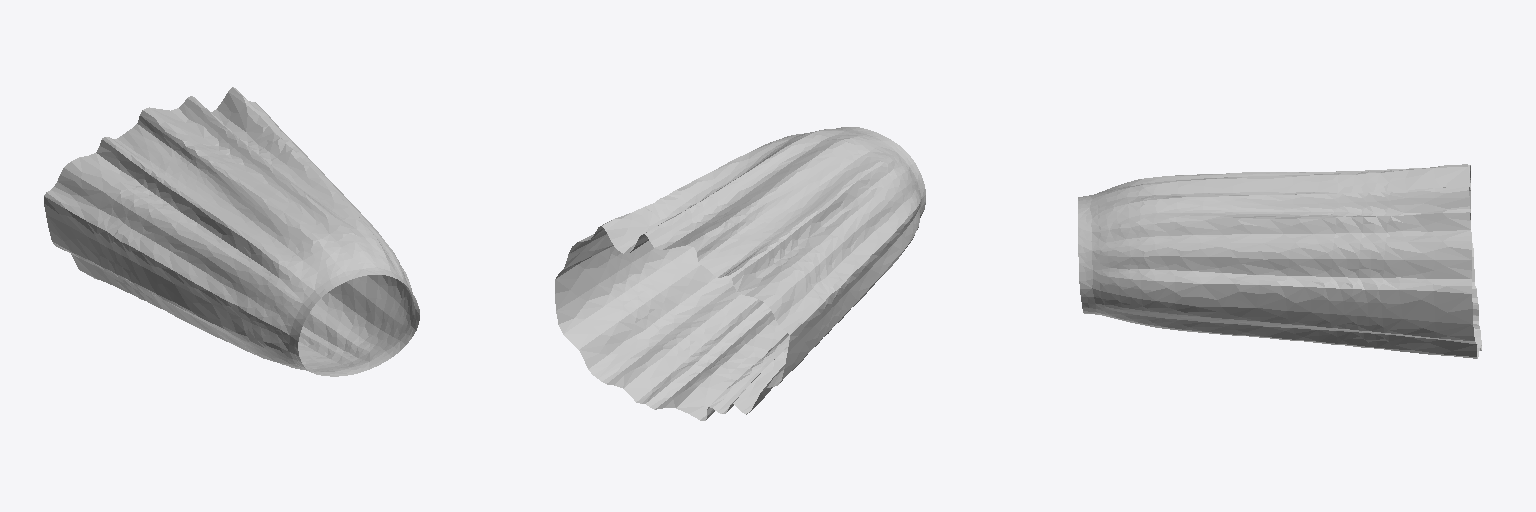
Rendered from garment.obj.
3 renders of one model, left to right at view 1: azimuth 30°, elevation 25°; view 2: azimuth 150°, elevation 25°; view 3: azimuth 270°, elevation 25°, orthographic.
Visible parts, largest first — view 1: Skirt_DressEvening_003; view 2: Skirt_DressEvening_003; view 3: Skirt_DressEvening_003.
Boxes of the visible parts, x1,y1,x2,y2 form: Skirt_DressEvening_003: [44, 87, 419, 376]; Skirt_DressEvening_003: [555, 127, 925, 420]; Skirt_DressEvening_003: [1078, 164, 1481, 358].
Bounding box in the file's own units: 0.8019 × 0.5503 × 1.2.